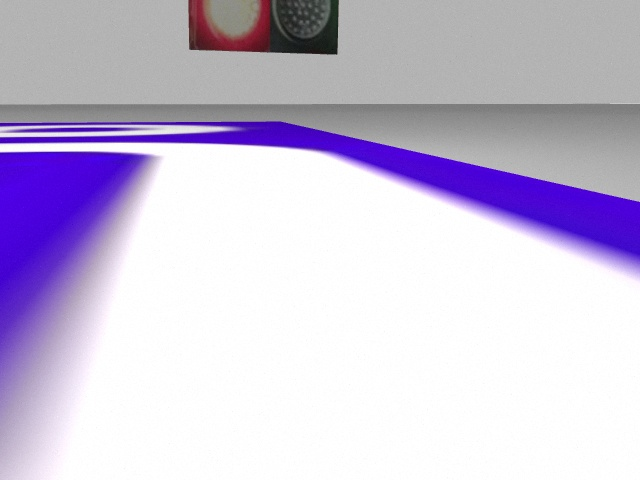red: (190, 1, 271, 53)
